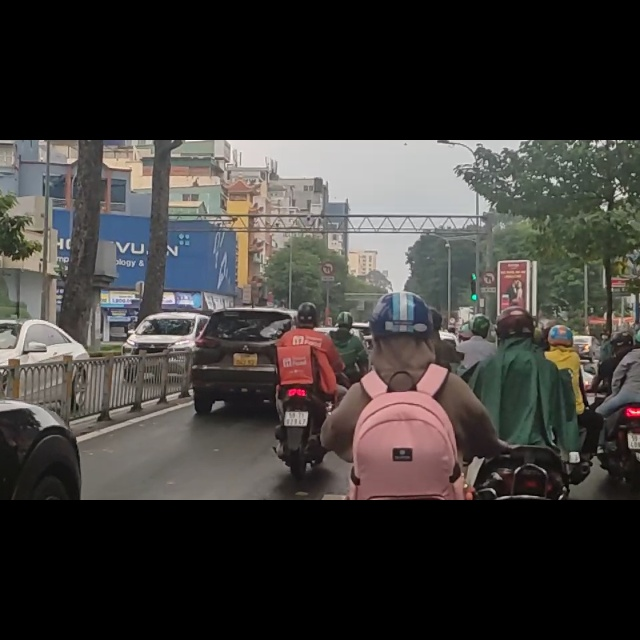bien_cam: (483, 233, 496, 256), (322, 217, 335, 239)
